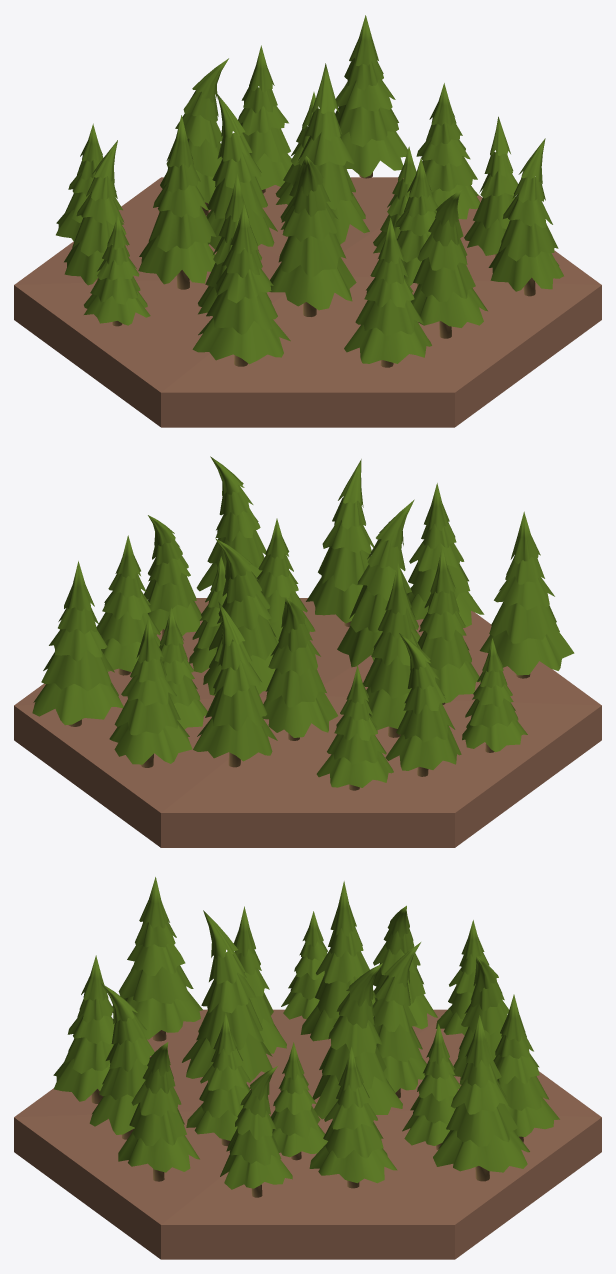
Rendered from ForetTest.glb.
The picture shows the model from 3 angles, top to bottom: view 1: azimuth 30°, elevation 25°; view 2: azimuth 150°, elevation 25°; view 3: azimuth 270°, elevation 25°; orthographic projection.
Parts seen in each view (by area): view 1: base.001, Resource_PineTree_Group, Resource_PineTree_Group.001; view 2: base.001, Resource_PineTree_Group, Resource_PineTree_Group.001; view 3: base.001, Resource_PineTree_Group, Resource_PineTree_Group.001.
Part boxes in pixels (x1,y1,x2,y2): base.001: (14,177,601,427); Resource_PineTree_Group: (56,15,563,366); Resource_PineTree_Group.001: (64,45,518,367); base.001: (14,598,601,847); Resource_PineTree_Group: (32,456,574,790); Resource_PineTree_Group.001: (109,459,527,776); base.001: (14,1009,601,1259); Resource_PineTree_Group: (112,877,529,1188); Resource_PineTree_Group.001: (53,905,559,1197).
Size of the model in its own units: 1.73 by 0.8214 by 2.
